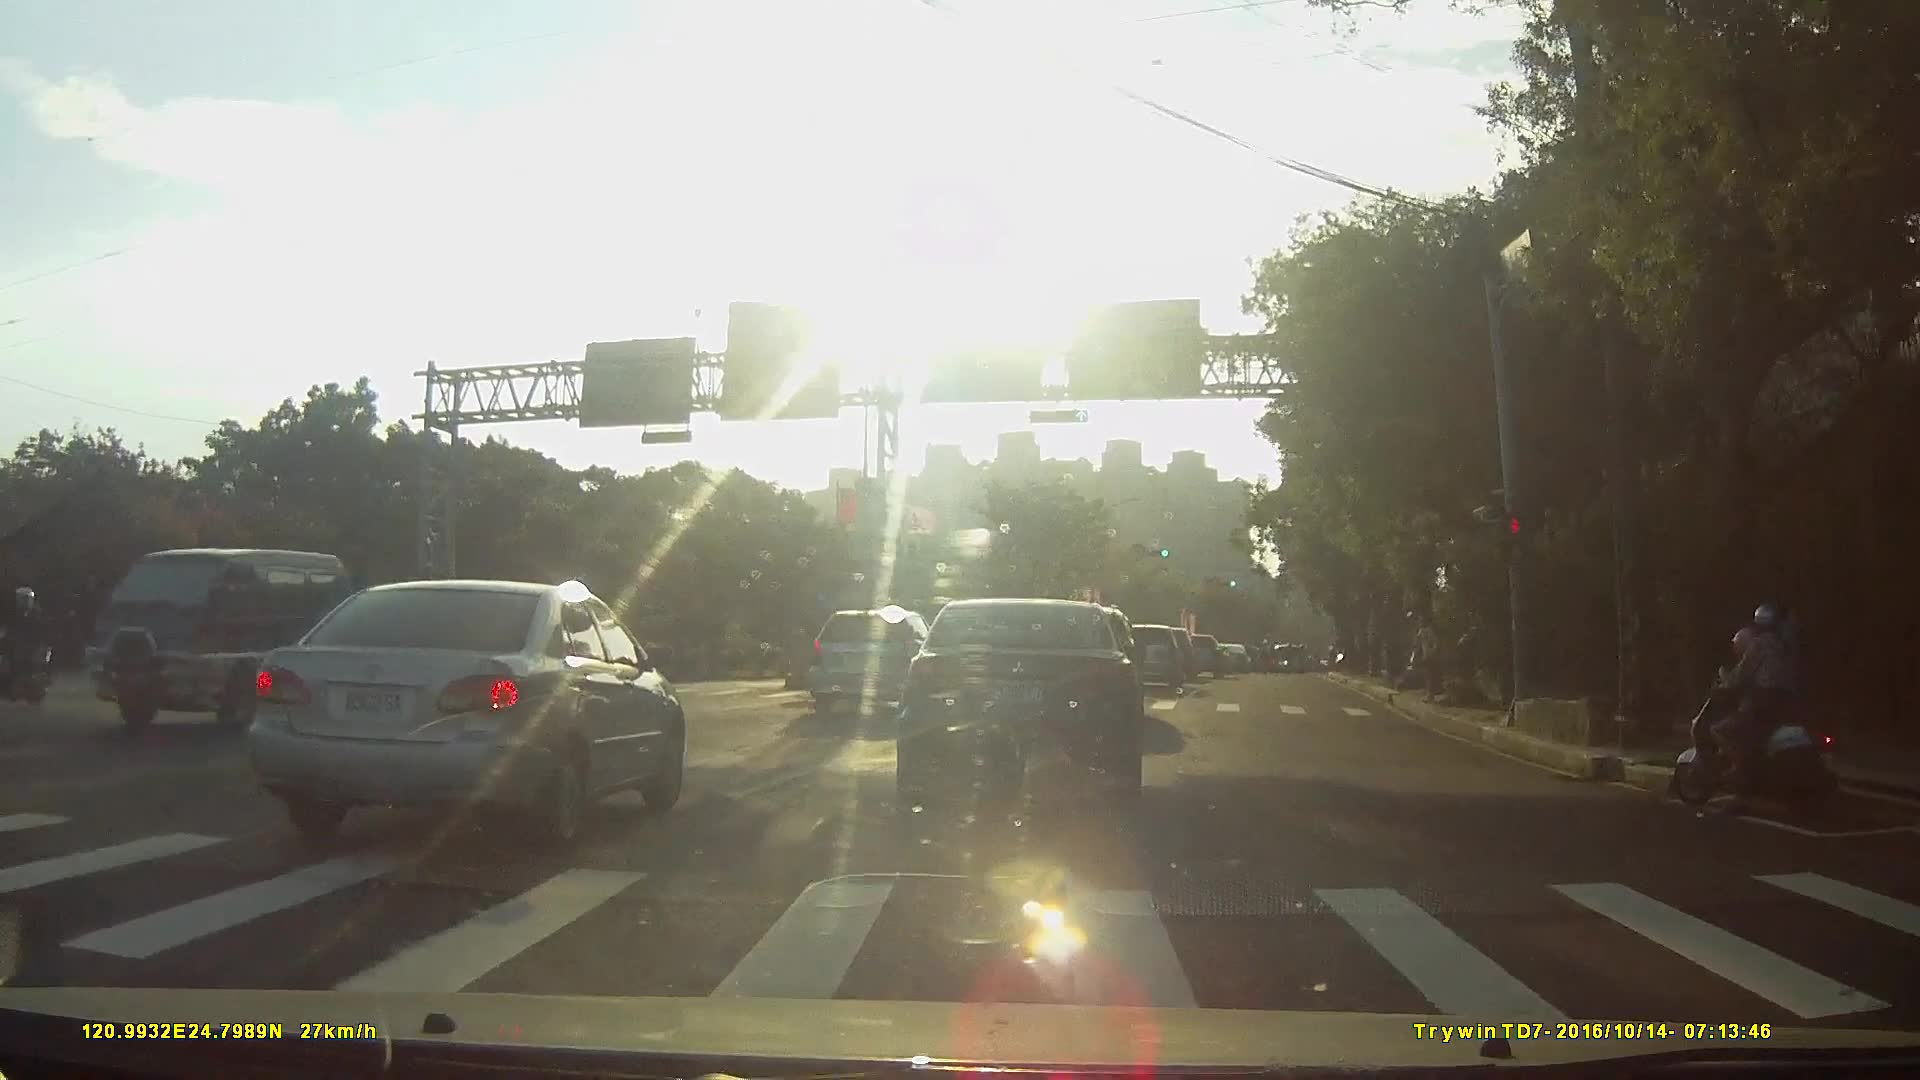pedestrian: (1755, 584, 1817, 749)
rider: (1674, 604, 1840, 821), (1, 589, 56, 707)
vehicle: (252, 577, 688, 852), (58, 539, 347, 726), (894, 596, 1147, 803), (804, 608, 947, 718), (1110, 623, 1184, 690), (1173, 633, 1222, 675), (1212, 644, 1249, 672)
